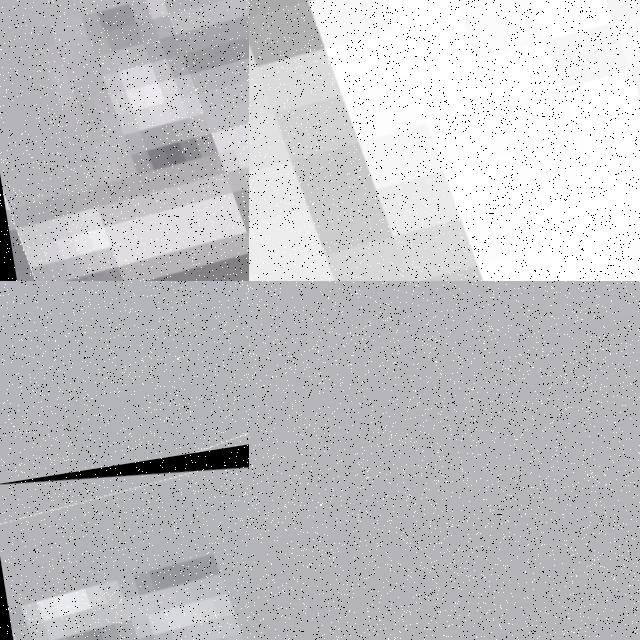0: (0, 0, 249, 281), (0, 436, 249, 640)
drone: (249, 0, 640, 281)
